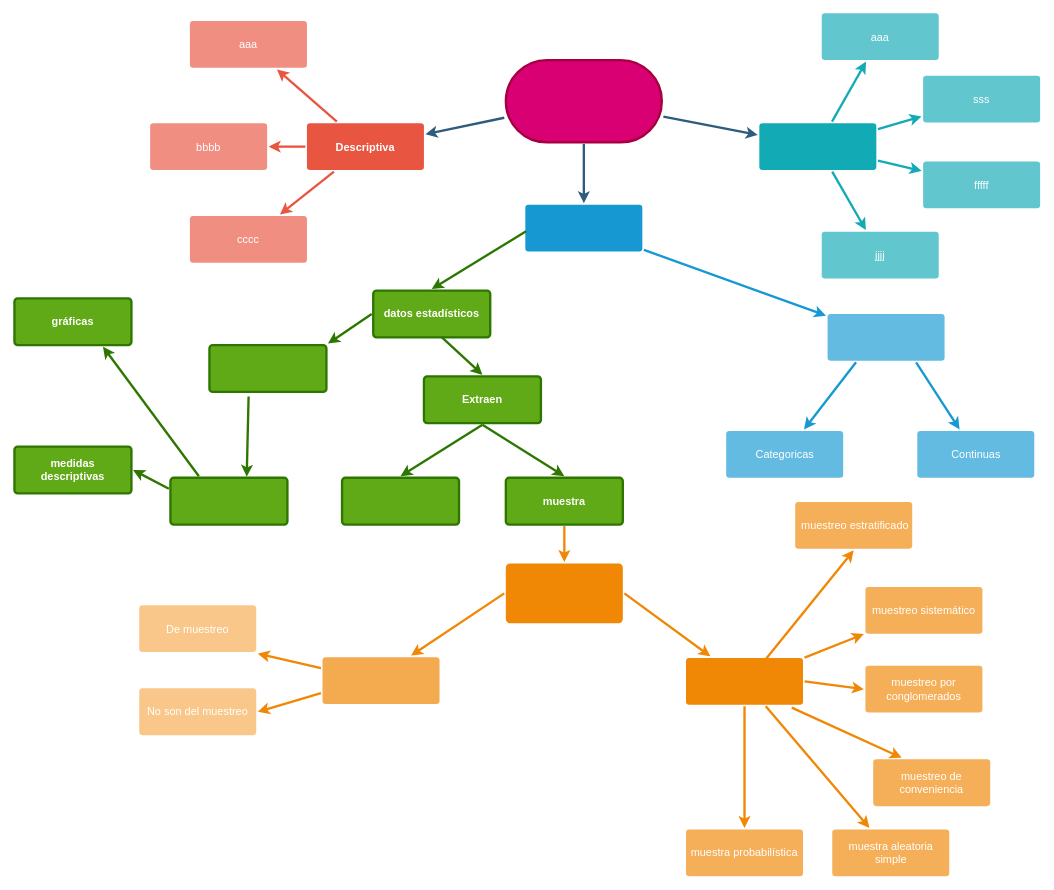
Image size: 1054x890. Some labels were removed from this diagram. Each missing label, with the centre of its shape:
"Datos" goes at (583,227).
"Errores" goes at (380,680).
"Estadistica" goes at (583,100).
"Inductiva" goes at (817,146).
"muestra aleatoria" goes at (744,681).
"Muestreo" goes at (563,593).
"organización y resumen" goes at (267,368).
"Población" goes at (400,500).
"procesamiento" goes at (228,500).
"Variables" goes at (885,337).
